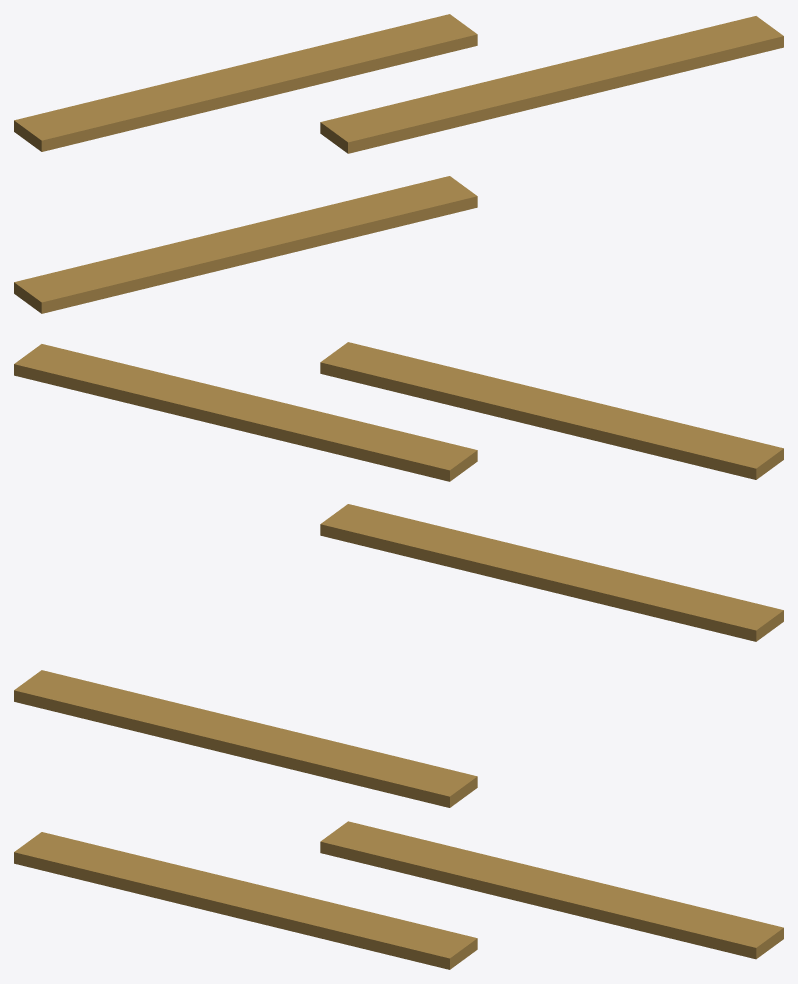
The model's file is HighShelfEmptyGeo.fbx.
The picture shows the model from 3 angles, top to bottom: view 1: azimuth 30°, elevation 25°; view 2: azimuth 150°, elevation 25°; view 3: azimuth 330°, elevation 25°; orthographic projection.
Visible parts, largest first — view 1: HighShelfEmptyGeo; view 2: HighShelfEmptyGeo; view 3: HighShelfEmptyGeo.
Part boxes in pixels (<box>): HighShelfEmptyGeo: <box>14,14,783,313</box>; HighShelfEmptyGeo: <box>14,342,783,641</box>; HighShelfEmptyGeo: <box>14,670,783,969</box>.
Size of the model in its own units: 758 by 169 by 49.12.
